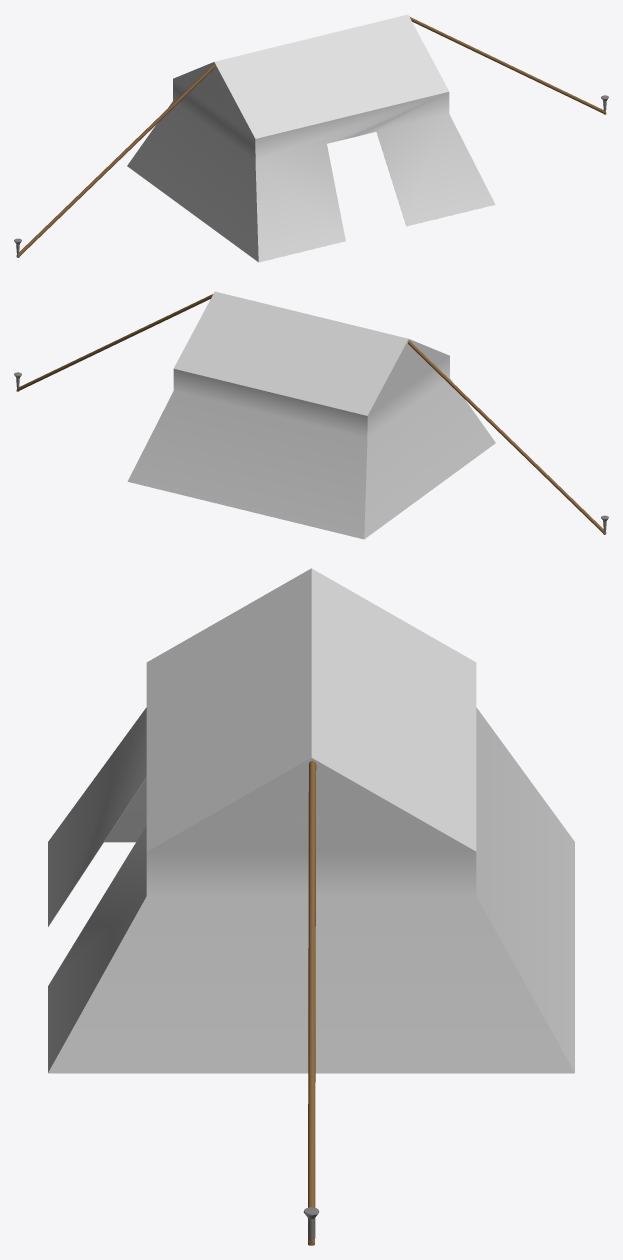
Rendered from Square_Tent_White_FBX_Export.fbx.
The picture shows the model from 3 angles, top to bottom: view 1: azimuth 30°, elevation 25°; view 2: azimuth 150°, elevation 25°; view 3: azimuth 270°, elevation 25°; orthographic projection. The views are drawn at different scales.
Parts seen in each view (by area): view 1: Tent_2; view 2: Tent_2; view 3: Tent_2.
Boxes of the visible parts, x1,y1,x2,y2 form: Tent_2: [14, 14, 608, 262]; Tent_2: [14, 291, 608, 539]; Tent_2: [48, 568, 574, 1245].
Size of the model in its own units: 19.85 by 4.71 by 7.63.
